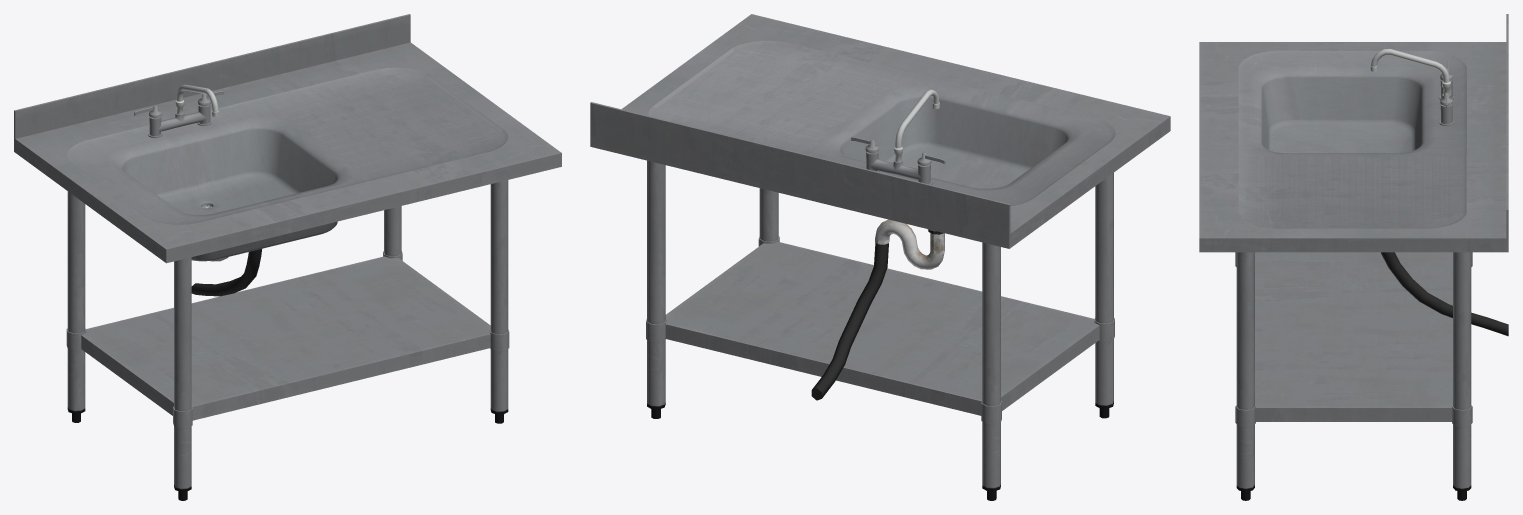
The model's file is SM_Sink_01.glb.
3 renders of one model, left to right at view 1: azimuth 30°, elevation 25°; view 2: azimuth 150°, elevation 25°; view 3: azimuth 270°, elevation 25°, orthographic. The views are drawn at different scales.
Parts seen in each view (by area): view 1: SM_Sink_01; view 2: SM_Sink_01; view 3: SM_Sink_01.
Part boxes in pixels (x1,y1,x2,y2): SM_Sink_01: (14,14,561,500); SM_Sink_01: (590,14,1170,500); SM_Sink_01: (1199,14,1508,500).
Bounding box in the file's own units: 1.5 × 1.21 × 1.
Materials: 2 (2 with a texture image).
